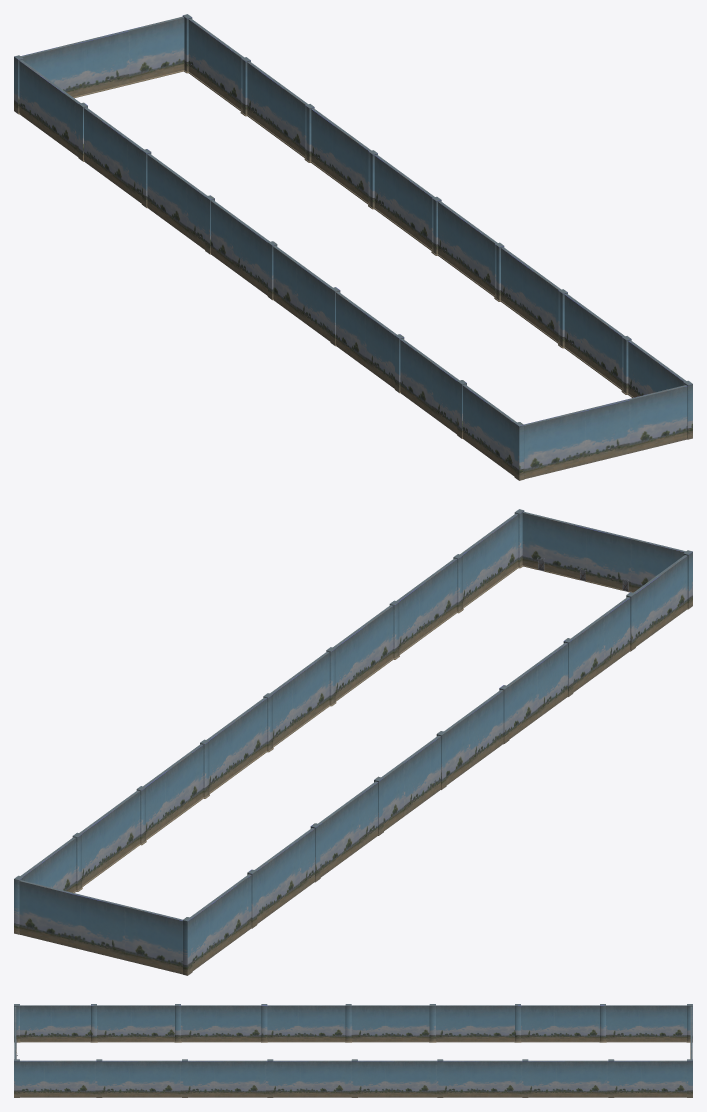
File: wall2.obj
The picture shows the model from 3 angles, top to bottom: view 1: azimuth 30°, elevation 25°; view 2: azimuth 150°, elevation 25°; view 3: azimuth 270°, elevation 25°; orthographic projection. The views are drawn at different scales.
Visible parts, largest first — view 1: Wall; view 2: Wall; view 3: Wall.
Boxes of the visible parts, left/top/right/bottom form: Wall: left=14, top=14, right=692, bottom=480; Wall: left=14, top=509, right=692, bottom=975; Wall: left=14, top=1004, right=692, bottom=1097.
Bounding box in the file's own units: 19.85 × 5.96 × 99.96.
1 material, 1 textured.
